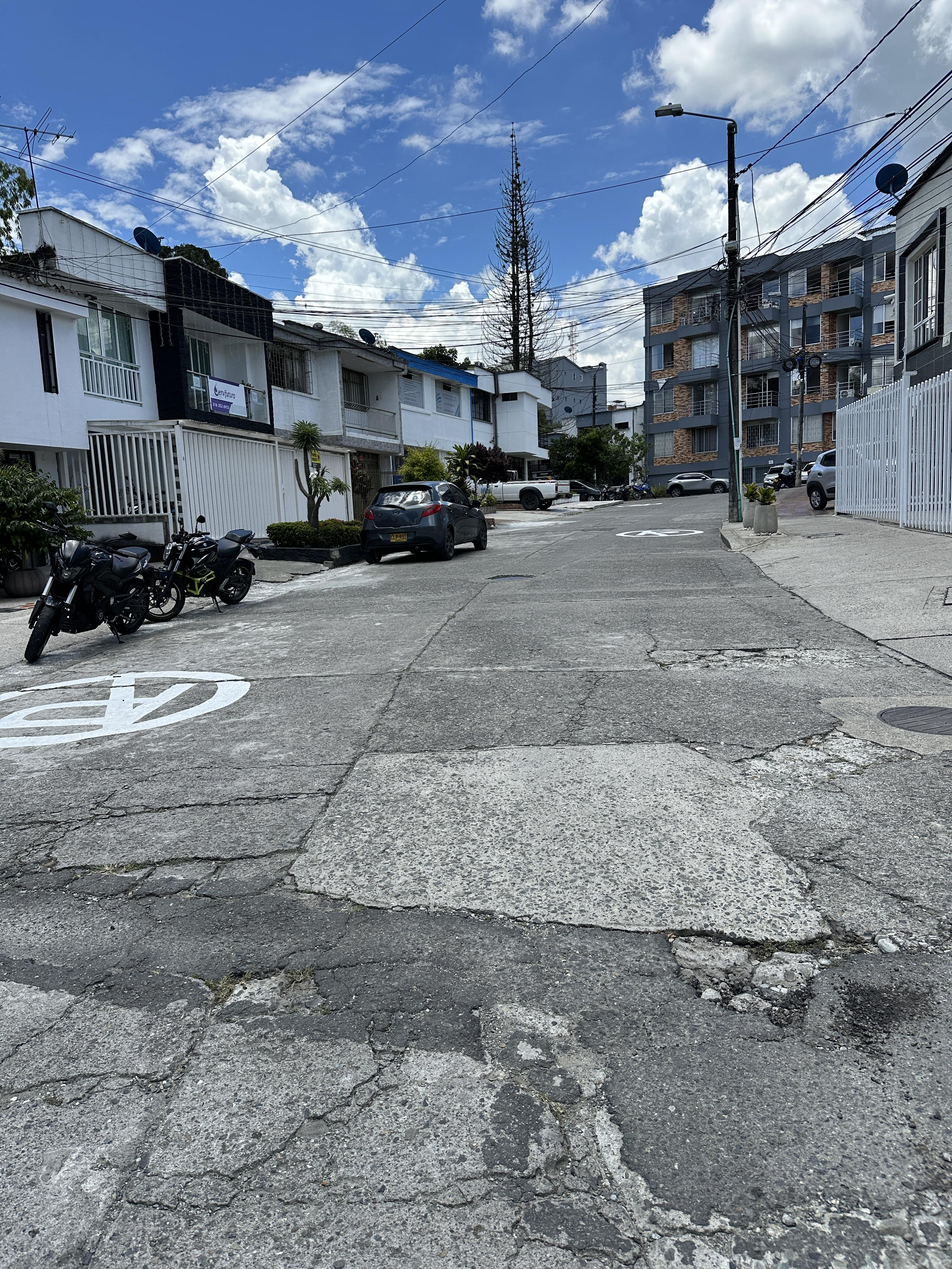bache: (666, 926, 876, 1021), (480, 1003, 613, 1135), (213, 966, 326, 1021), (488, 574, 536, 580)
grieta: (119, 1010, 416, 1218), (352, 1154, 733, 1266), (1, 788, 332, 901), (728, 723, 922, 763), (647, 636, 835, 673), (0, 1071, 171, 1109), (329, 1077, 379, 1123)
registro: (877, 705, 952, 737)
